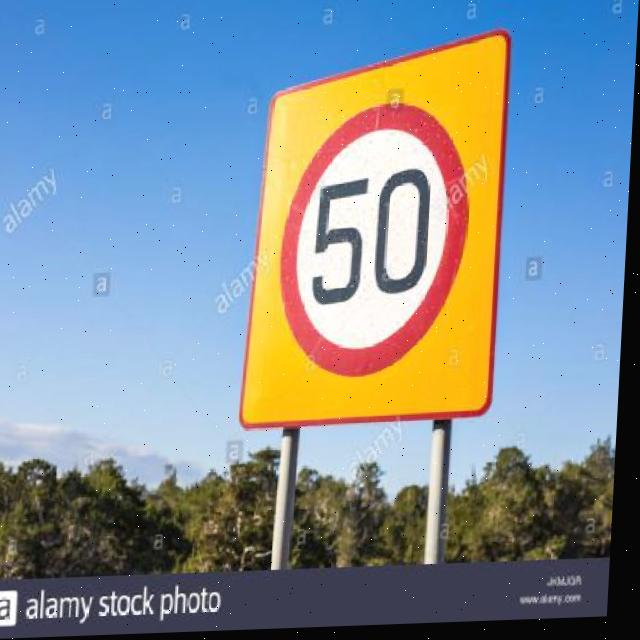Speed limit 50: (274, 101, 481, 391)
